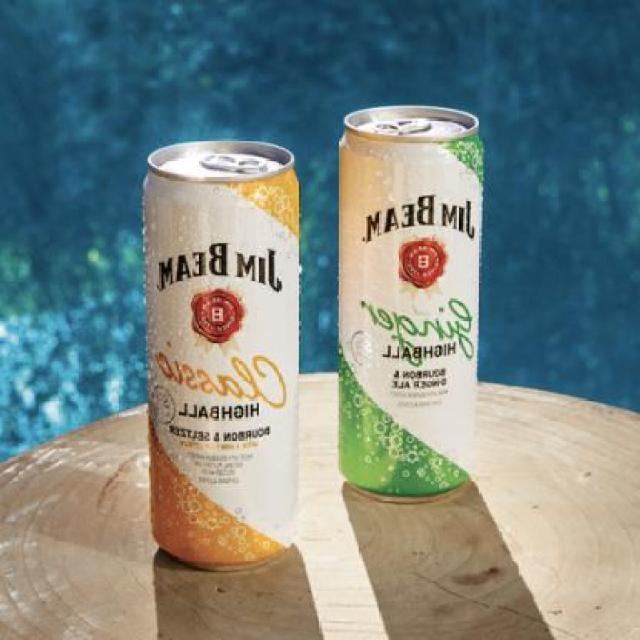can: (121, 129, 306, 582), (330, 94, 496, 514)
